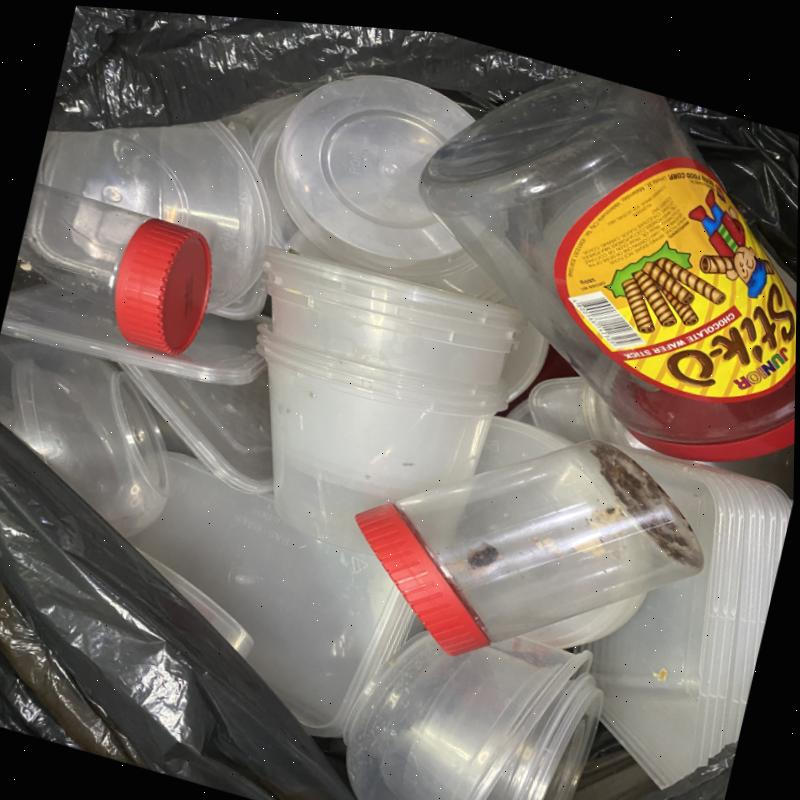plastic container: (418, 73, 796, 464), (256, 247, 523, 555), (353, 440, 705, 657), (590, 452, 793, 791), (344, 626, 601, 800), (273, 76, 477, 283), (7, 183, 212, 356), (0, 344, 173, 537)
